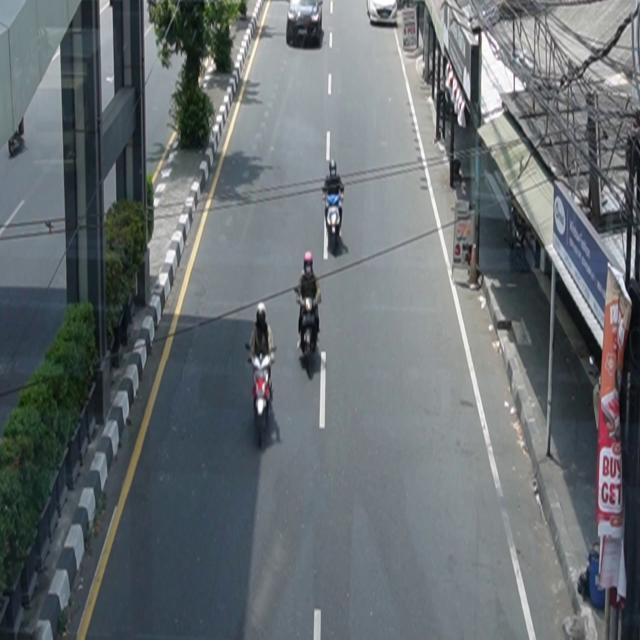car: (287, 1, 324, 47), (367, 1, 398, 26)
